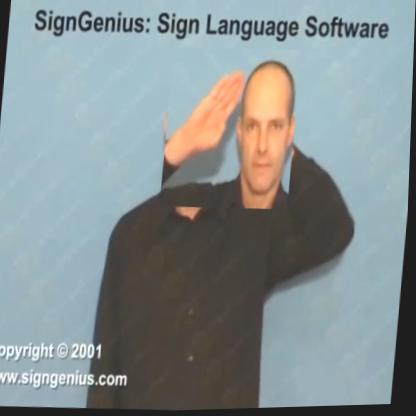Hello: (161, 45, 301, 214)
